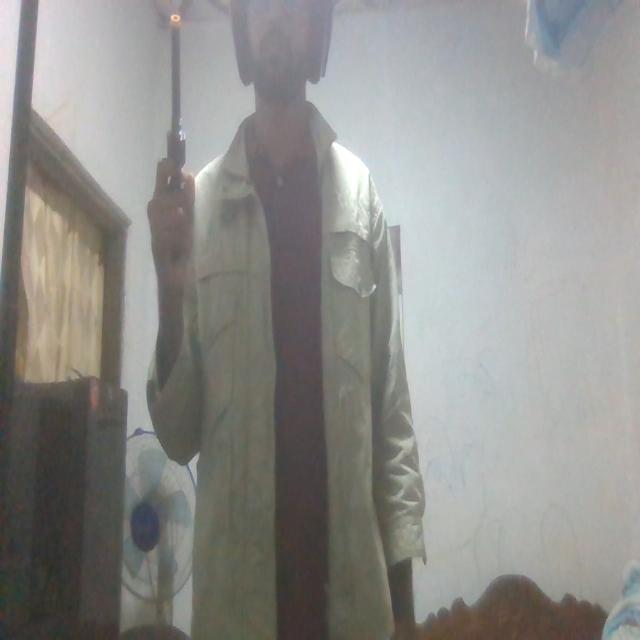Gun_Holder: (156, 12, 208, 250)
Jacket_Wearer: (136, 85, 426, 630)
Person: (148, 0, 426, 640)
